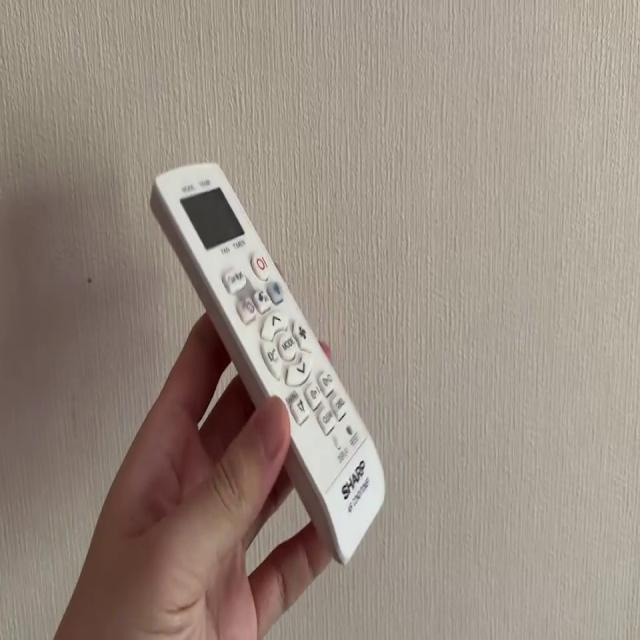remote: (150, 163, 387, 569)
